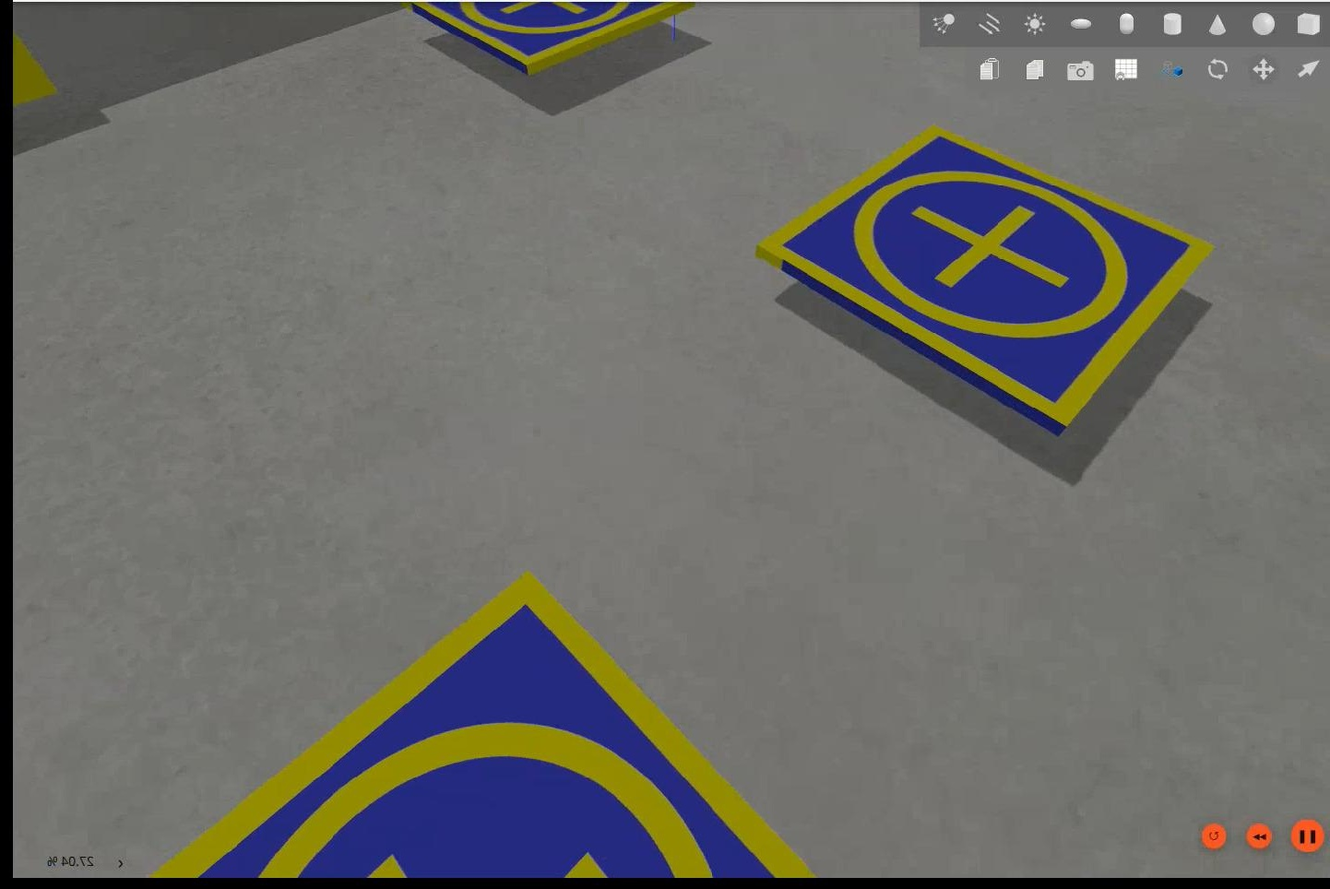small_base: (144, 568, 810, 878), (751, 124, 1215, 437), (410, 1, 689, 76)
